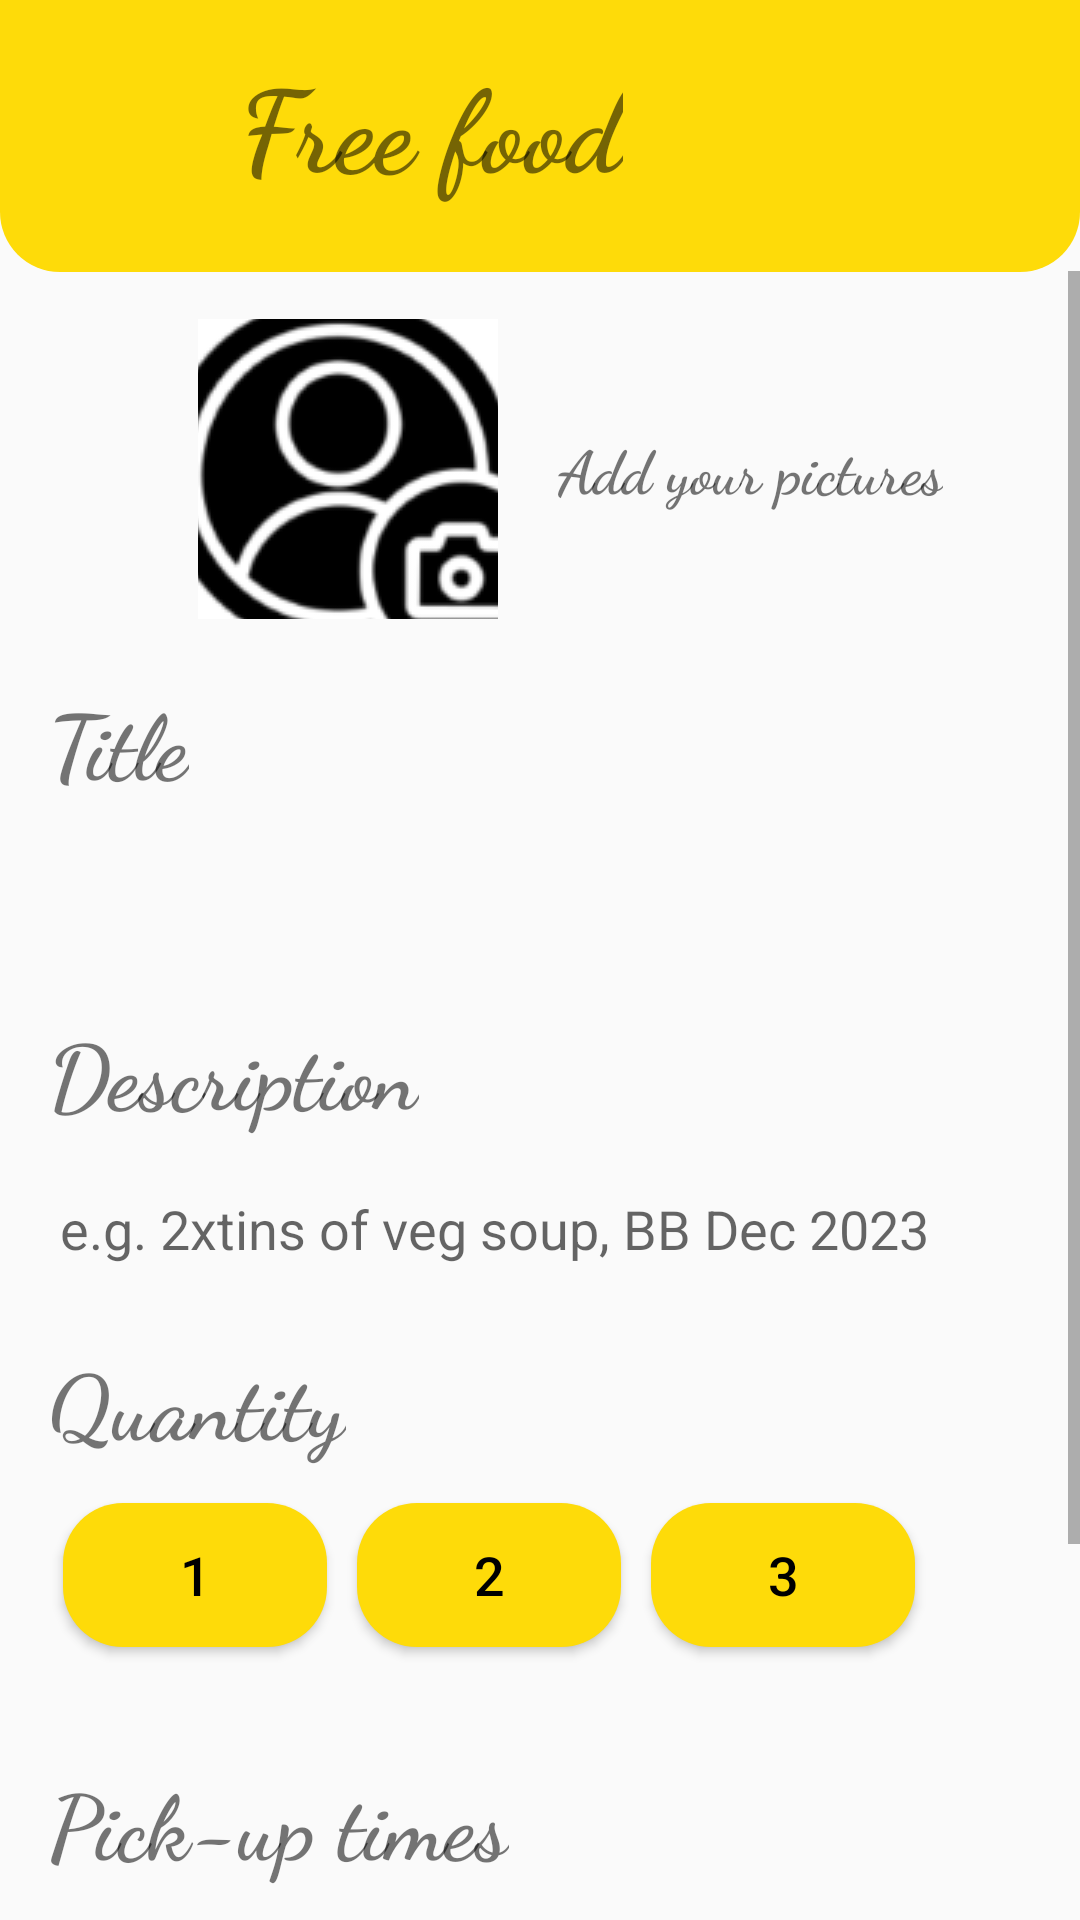

Screen size 1080w x 1920h. Icon name, then its box in pixels as [x1,y1,x2,y2]:
camera: [198,319,498,619]
